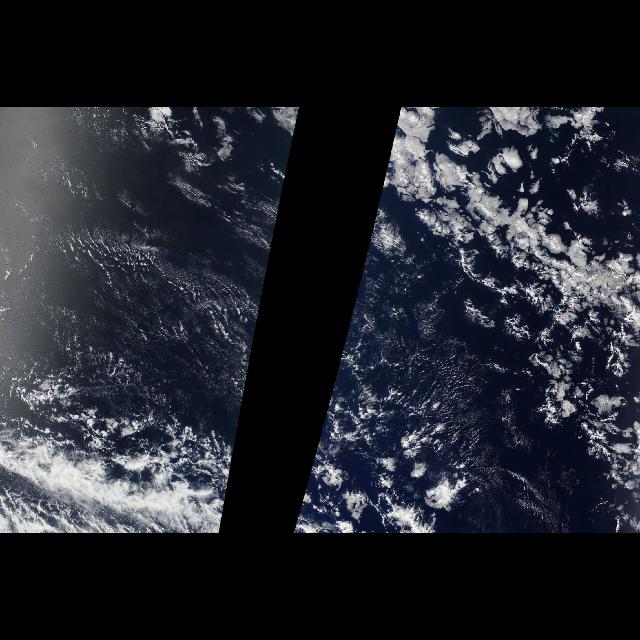Flower: (402, 130, 640, 382)
Sugar: (0, 188, 238, 438), (361, 274, 515, 473)
